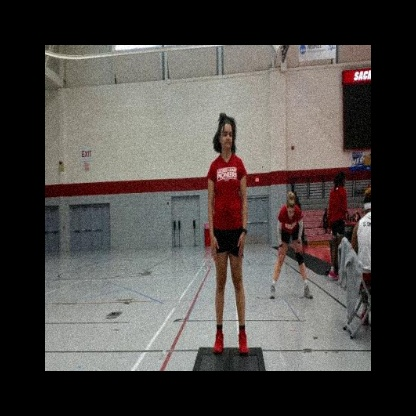lateral_flexion_normal: (207, 109, 256, 356)
stance_width_narrow: (207, 154, 253, 356)
